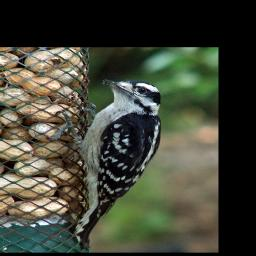Woodpecker: (53, 76, 176, 248)
